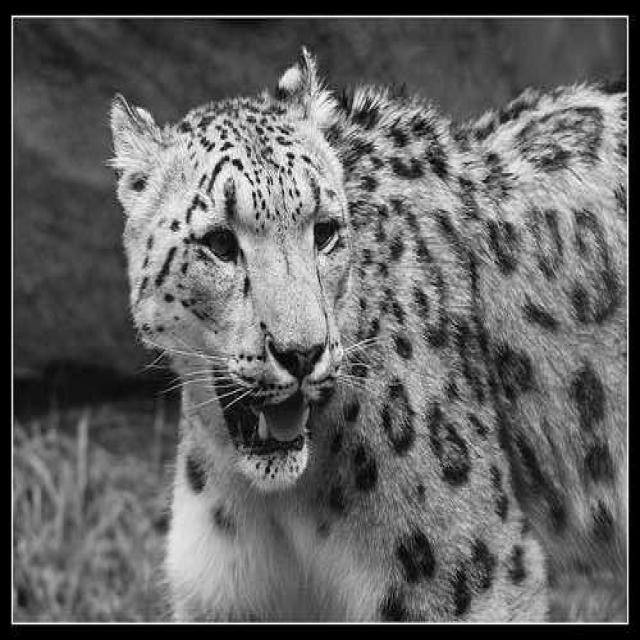Leopard: (105, 45, 628, 623)
